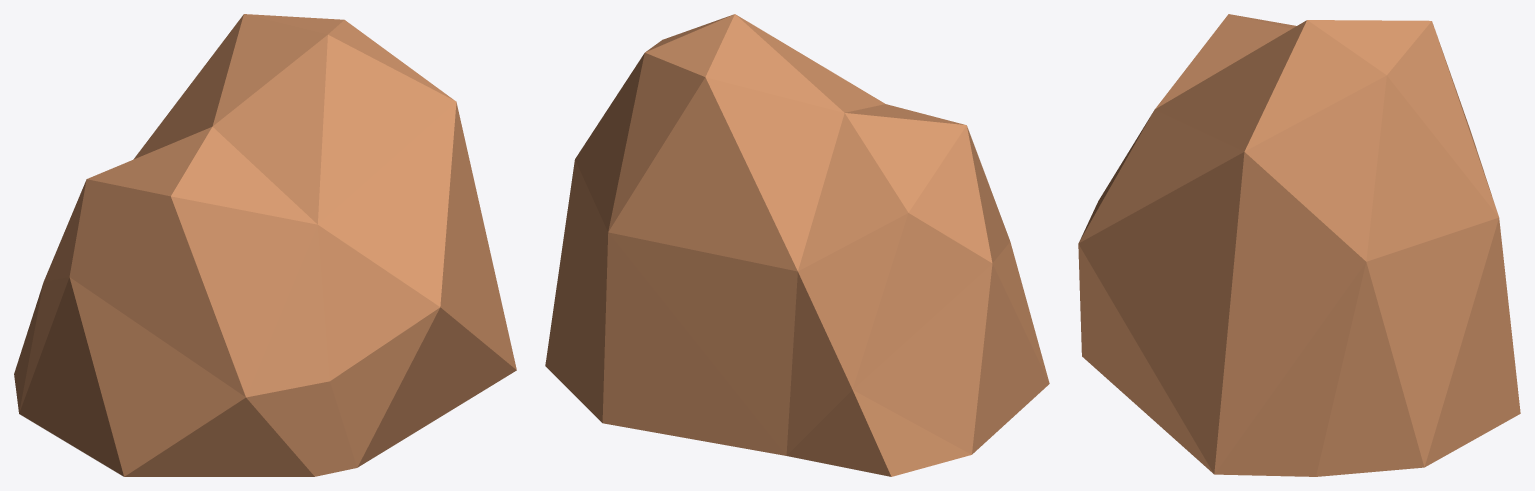
Rendered from Granite01.fbx.
3 views of the same model, side by side, from view 1: azimuth 30°, elevation 25°; view 2: azimuth 150°, elevation 25°; view 3: azimuth 270°, elevation 25° (orthographic). The views are drawn at different scales.
Visible parts, largest first — view 1: Granite01; view 2: Granite01; view 3: Granite01.
Boxes of the visible parts, box(x1,y1,x2,y2) form: Granite01: box(14, 14, 516, 476); Granite01: box(545, 14, 1049, 476); Granite01: box(1078, 14, 1520, 476).
Bounding box in the file's own units: 1.25 × 0.9653 × 1.03.
